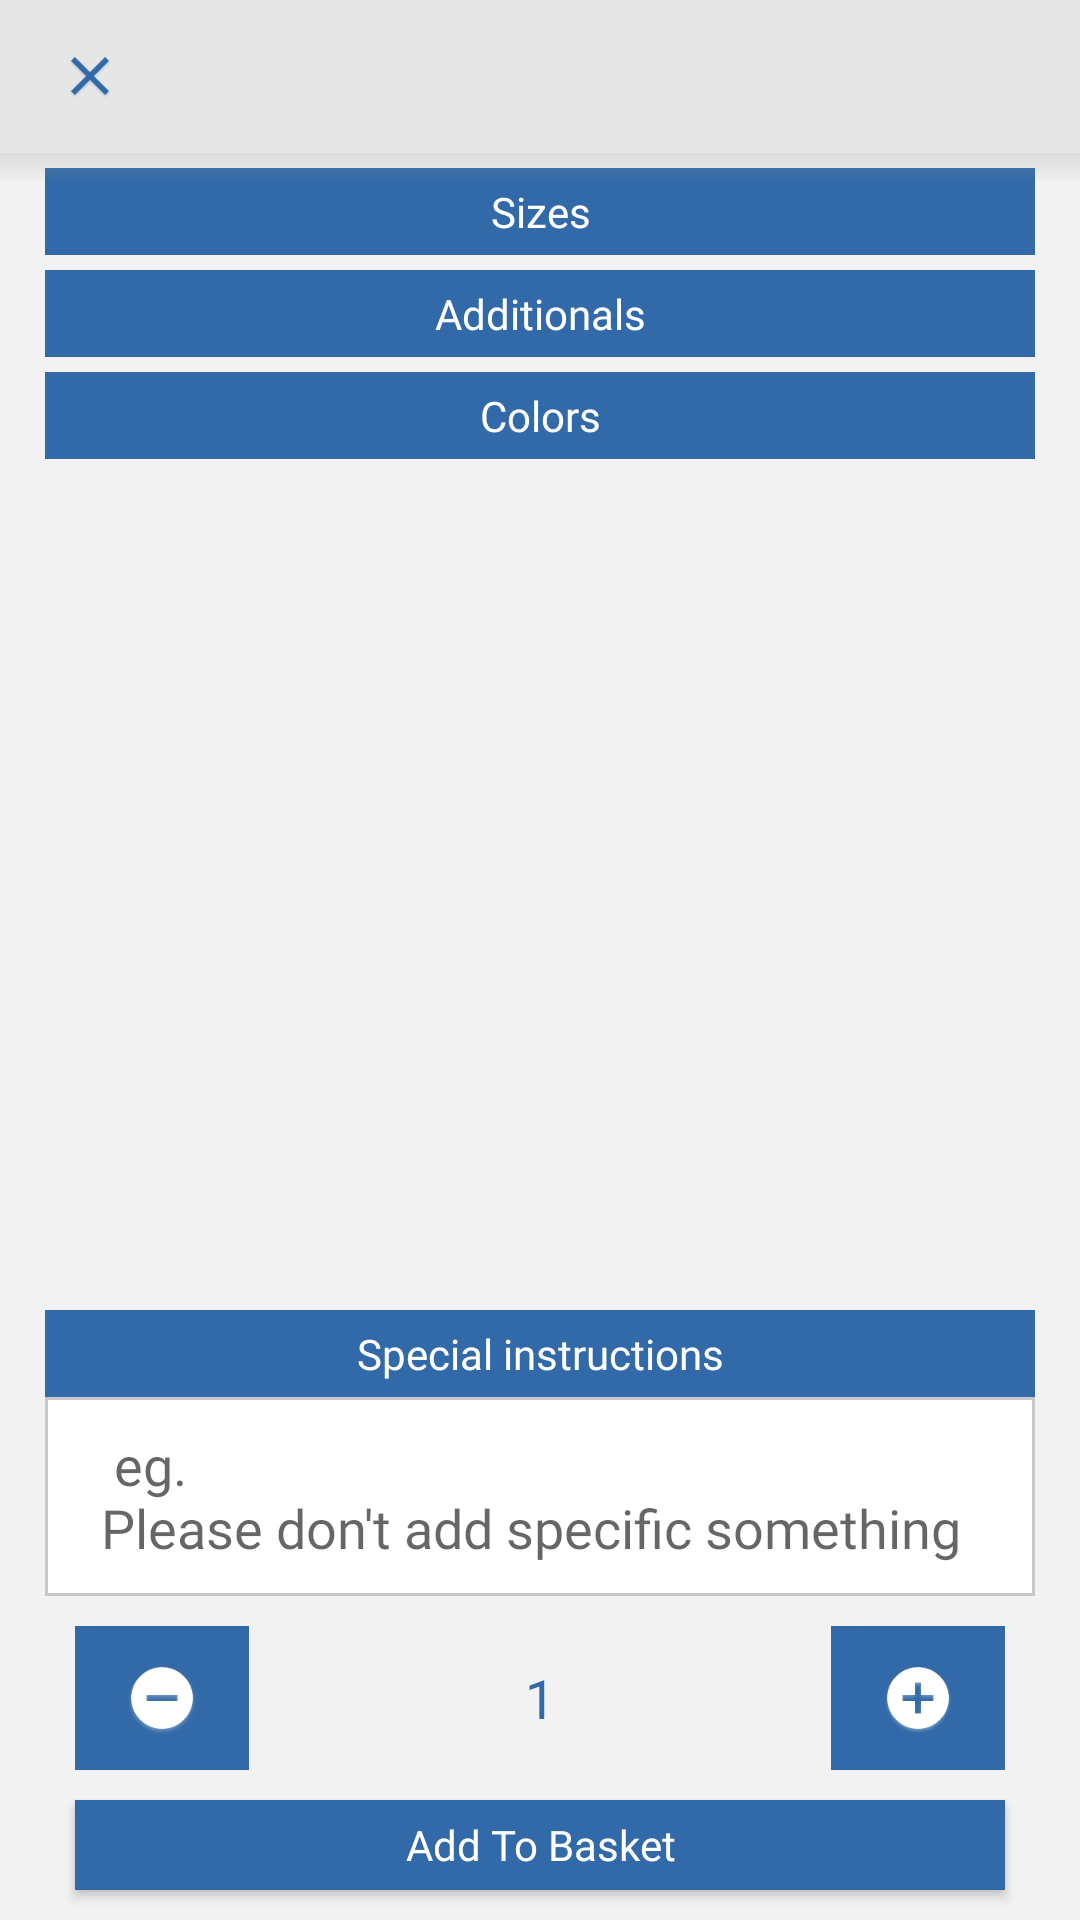

Icons on this 1080x1920 Android screen, each with its box as (x1, y1, x2, y2):
add circle: (831, 1626, 1005, 1770)
close: (71, 57, 109, 96)
remove circle: (75, 1626, 249, 1770)
